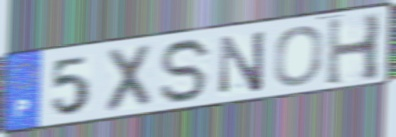5: (49, 53, 95, 119)
H: (324, 11, 384, 88)
N: (218, 28, 268, 96)
O: (272, 24, 326, 88)
S: (158, 37, 215, 106)
X: (102, 41, 156, 115)
